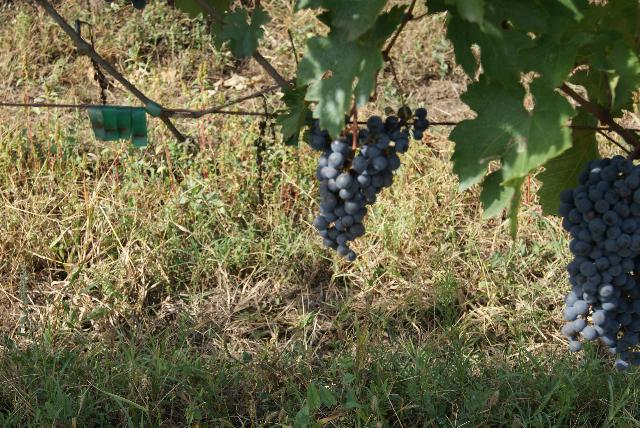grapes: (558, 156, 640, 370), (309, 116, 399, 261), (366, 106, 430, 152)
